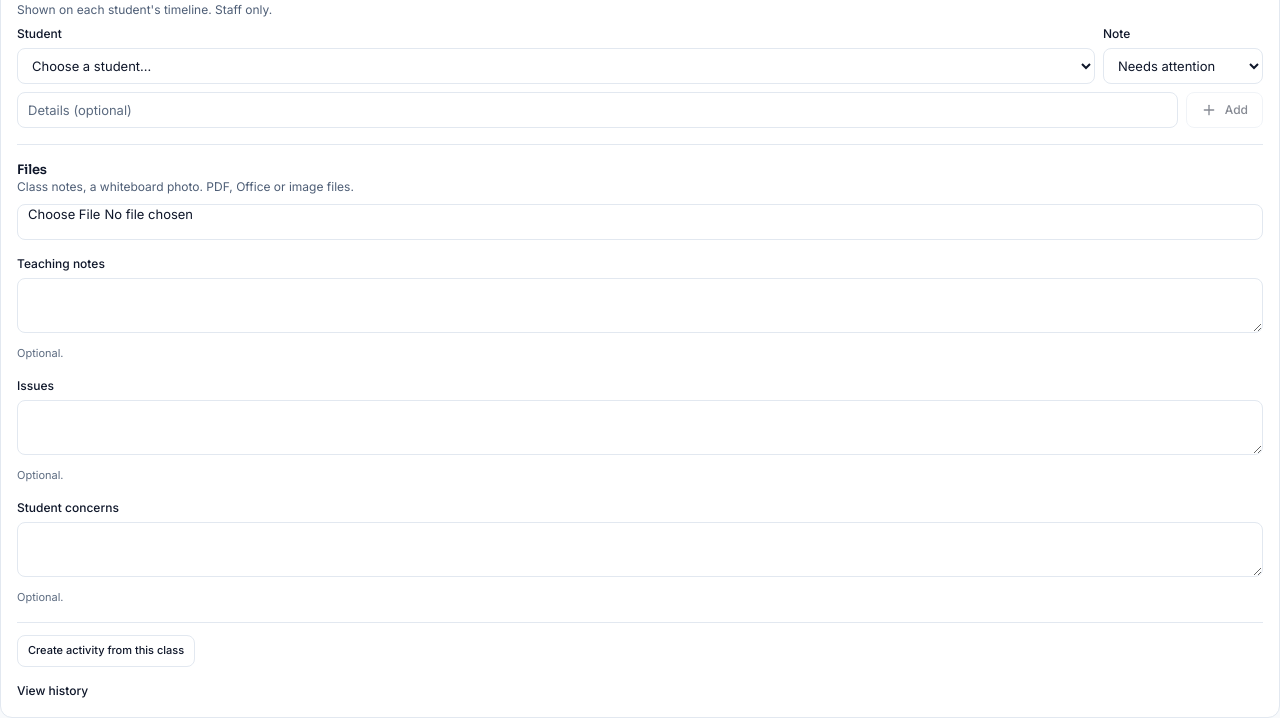
Scenario: DsrPanel — follow-up (create activity, history) › renders a mixed history — an edit and a rejection with its comment visible
(page scrolled)
Click the button "View history": coordinates (53, 691) [17,683,88,699]
(page scrolled)
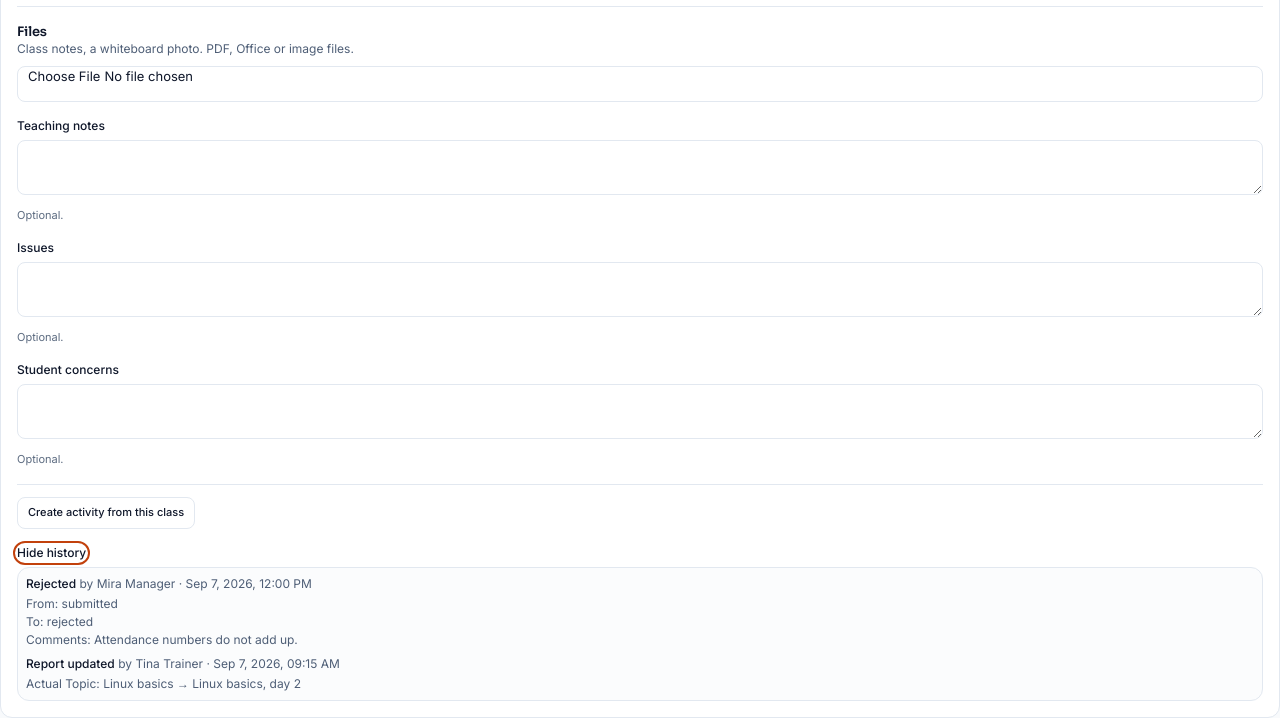
Check: the text "Rejected" is shown, box [26,576,76,591]
Check: the text "Mira Manager" is shown, box [97,576,175,591]
Check: the list item "Comments: Attendance numbers do not add up." is shown, box [26,632,298,647]
